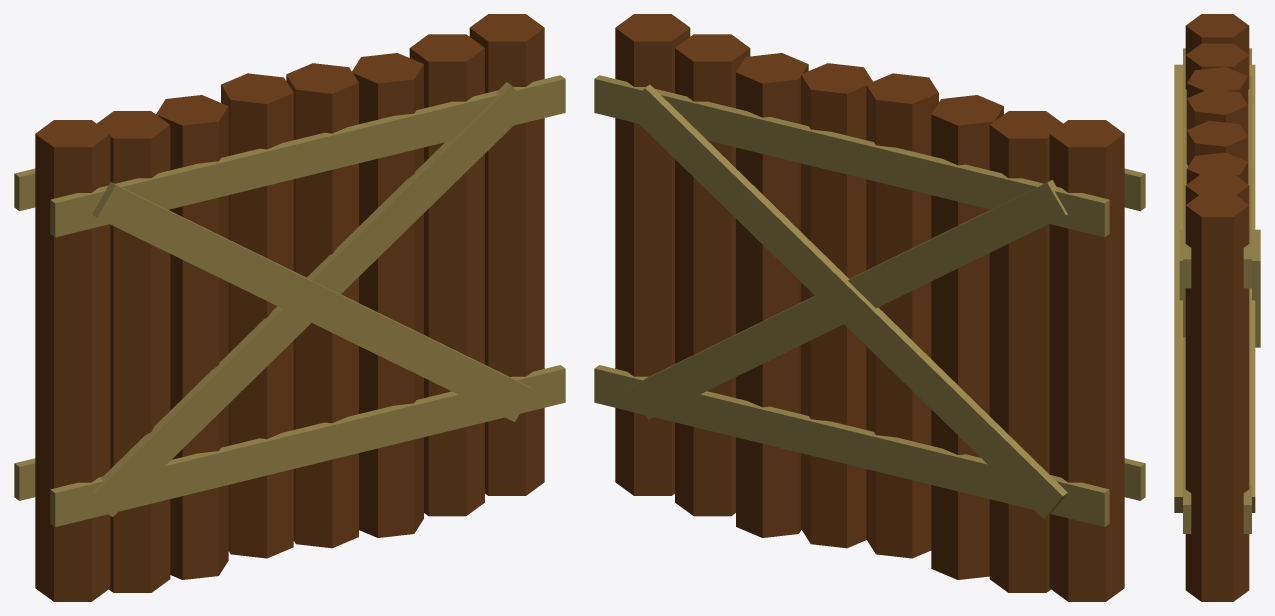
File: Wood Wall.fbx
3 renders of one model, left to right at view 1: azimuth 30°, elevation 25°; view 2: azimuth 150°, elevation 25°; view 3: azimuth 270°, elevation 25°, orthographic. The views are drawn at different scales.
Parts seen in each view (by area): view 1: Build Walls; view 2: Build Walls; view 3: Build Walls.
Boxes of the visible parts, x1=… form: Build Walls: x1=14, y1=14, x2=565, y2=601; Build Walls: x1=594, y1=14, x2=1145, y2=601; Build Walls: x1=1174, y1=14, x2=1260, y2=601.
Bounding box in the file's own units: 940 × 820 × 162.
